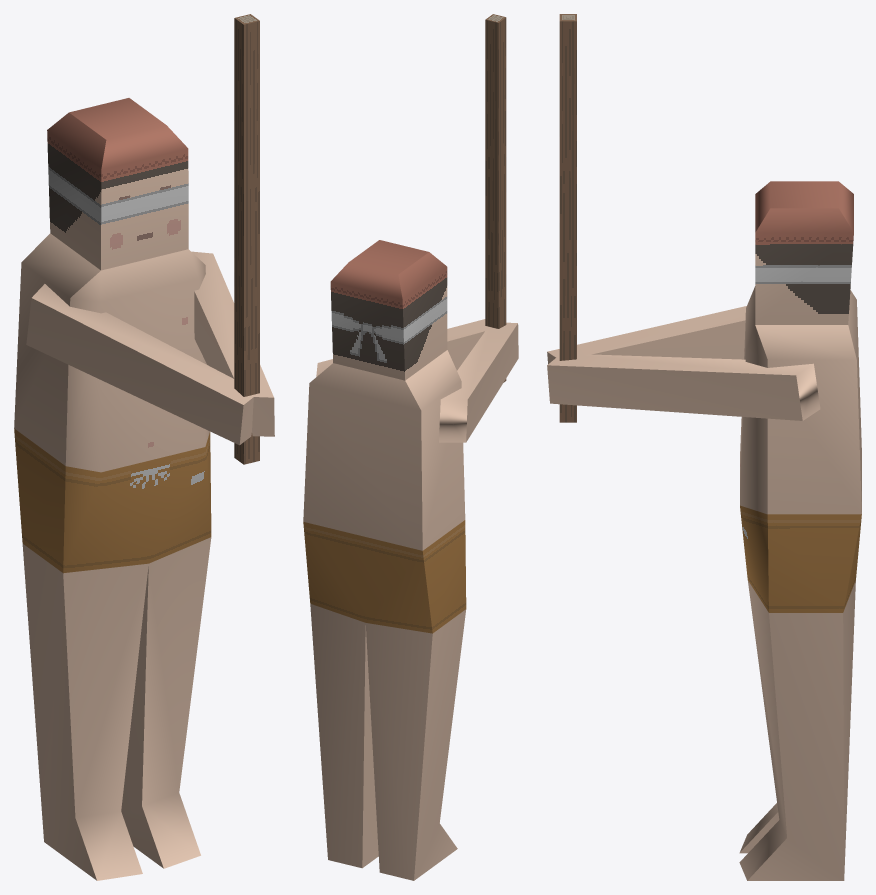
Rendered from 02d8_Watermelon_Boy.glb.
3 renders of one model, left to right at view 1: azimuth 30°, elevation 25°; view 2: azimuth 150°, elevation 25°; view 3: azimuth 270°, elevation 25°, orthographic. The views are drawn at different scales.
Visible parts, largest first — view 1: part_0; view 2: part_0; view 3: part_0.
Part boxes in pixels (x1,y1,x2,y2): part_0: (14,14,274,880); part_0: (303,14,518,880); part_0: (547,14,861,880).
Bounding box in the file's own units: 0.335 × 1.59 × 0.5411.
1 material, 1 textured.
